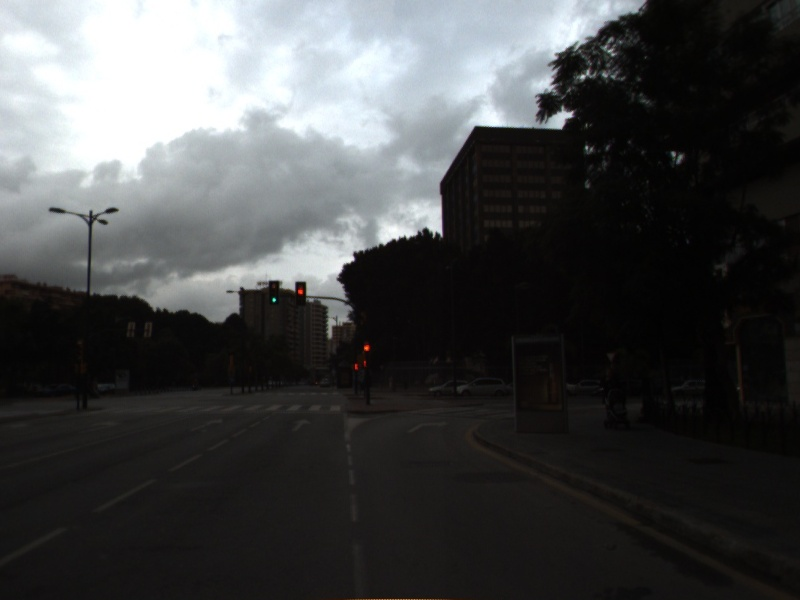RIGHT: (405, 419, 451, 436)
STRAIGHT: (188, 417, 225, 434), (289, 417, 314, 434)
